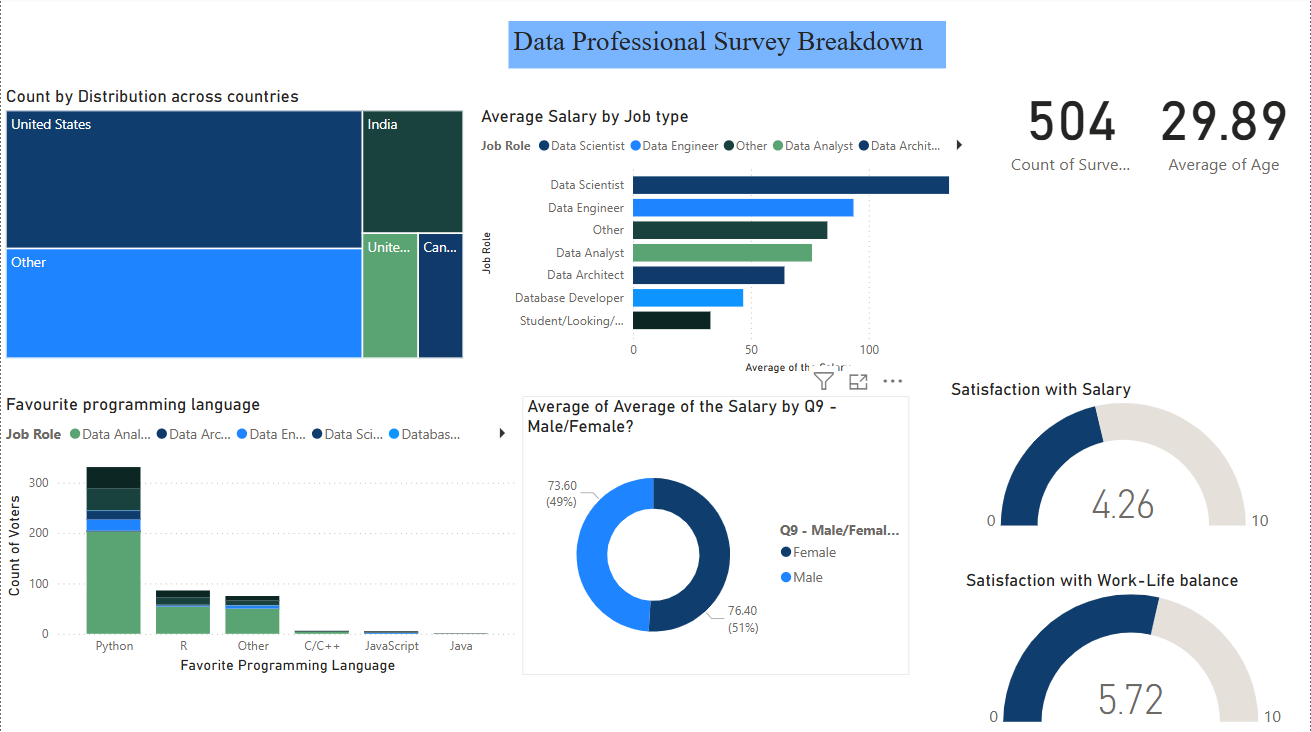

The dashboard page shown, as its layout file describes it:
{"tool":"powerbi","page":{"name":"Page 1","canvas":[1280,720],"ordinal":0},"visuals":[{"type":"card","fields":{"Values":["CountNonNull(Data Professional Survey.Unique ID)"]},"box":[980.7,70.9,132.1,110.1],"z":0},{"type":"card","fields":{"Values":["Avg(Data Professional Survey.Q10 - Current Age)"]},"box":[1112.8,70.9,167.5,110.1],"z":1000},{"type":"barChart","title":"Average Salary by Job type","fields":{"Category":["Data Professional Survey.Q1 - Which Title Best Fits your Current Role?.1.1.1"],"Y":["Avg(Data Professional Survey.Average of the Salary)"],"Series":["Data Professional Survey.Q1 - Which Title Best Fits your Current Role?.1.1.1"]},"box":[464.7,107.6,491.6,266.6],"z":2000},{"type":"textbox","box":[496.5,24.5,428,46.5],"z":3000},{"type":"columnChart","title":"Favourite programming language","fields":{"Category":["Data Professional Survey.Q5 - Favorite Programming Language.1"],"Y":["CountNonNull(Data Professional Survey.Unique ID)"],"Series":["Data Professional Survey.Q1 - Which Title Best Fits your Current Role?.1.1.1"]},"box":[0,388.9,509.9,278.8],"z":4000},{"type":"treemap","fields":{"Values":["CountNonNull(Data Professional Survey.Q11 - Which Country do you live in?.1)"],"Group":["Data Professional Survey.Q11 - Which Country do you live in?.1"]},"box":[0,88,457.3,271.5],"z":5000},{"type":"gauge","title":"Satisfaction with Salary","fields":{"Y":["Avg(Data Professional Survey.Q6 - How Happy are you in your Current Position with the following? (Salary))"],"MinValue":["Min(Data Professional Survey.Q6 - How Happy are you in your Current Position with the following? (Salary))"],"MaxValue":["Max(Data Professional Survey.Q6 - How Happy are you in your Current Position with the following? (Salary))"]},"box":[924.5,374.2,355.8,154.1],"z":6000},{"type":"gauge","title":"Satisfaction with Work-Life balance","fields":{"Y":["Avg(Data Professional Survey.Q6 - How Happy are you in your Current Position with the following? (Work/Life Balance))"],"MinValue":["Min(Data Professional Survey.Q6 - How Happy are you in your Current Position with the following? (Work/Life Balance))"],"MaxValue":["Max(Data Professional Survey.Q6 - How Happy are you in your Current Position with the following? (Work/Life Balance))"]},"box":[939.1,561.3,341.2,159],"z":7000},{"type":"donutChart","fields":{"Category":["Data Professional Survey.Q9 - Male/Female?"],"Y":["Avg(Data Professional Survey.Average of the Salary)"]},"box":[509.9,391.3,377.9,272.7],"z":8000}]}

Visuals, with their boxes in screenshot pixels (x1, y1, x2, y2), scaled from the page's 1280x720 canvas onto the 1311x732 screenshot:
card - CountNonNull(Data Professional Survey.Unique ID): pyautogui.locateOnScreen(1004, 72, 1140, 184)
card - Avg(Data Professional Survey.Q10 - Current Age): pyautogui.locateOnScreen(1140, 72, 1310, 184)
"Average Salary by Job type" barChart: pyautogui.locateOnScreen(476, 109, 979, 380)
textbox: pyautogui.locateOnScreen(509, 25, 947, 72)
"Favourite programming language" columnChart: pyautogui.locateOnScreen(0, 395, 522, 679)
treemap - CountNonNull(Data Professional Survey.Q11 - Which Country do you live in?.1) x Data Professional Survey.Q11 - Which Country do you live in?.1: pyautogui.locateOnScreen(0, 89, 468, 365)
"Satisfaction with Salary" gauge: pyautogui.locateOnScreen(947, 380, 1310, 537)
"Satisfaction with Work-Life balance" gauge: pyautogui.locateOnScreen(962, 571, 1310, 731)
donutChart - Data Professional Survey.Q9 - Male/Female? x Avg(Data Professional Survey.Average of the Salary): pyautogui.locateOnScreen(522, 398, 909, 675)
